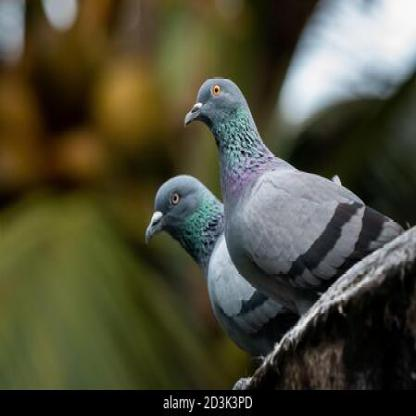Flying Rat: (187, 76, 403, 302), (145, 170, 284, 354)
